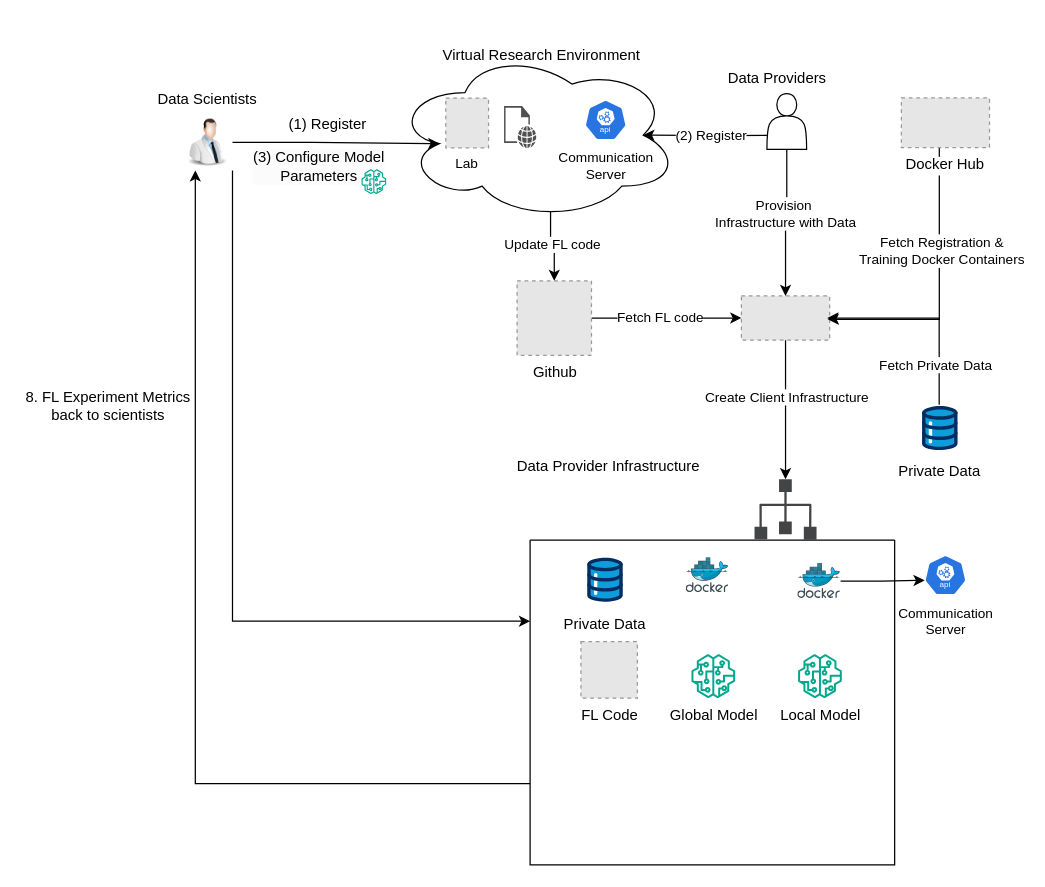
This 1045x887 diagram has some shape labels left out. Grey dashed boxes stand in for pictures. Here are the shapes that lost their labels. From the top down, the centre of each, then its label:
[519,126]: FL Portal
[707,574]: FL Training & Aggregation
[818,580]: FL Registration
